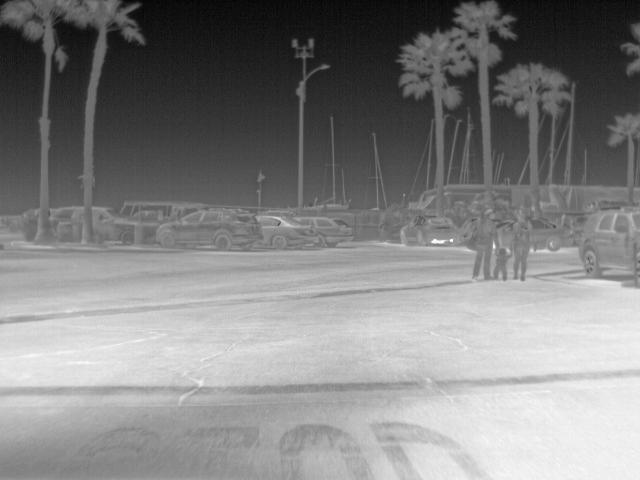car: (158, 207, 264, 252), (581, 206, 637, 282), (254, 214, 321, 249), (396, 213, 457, 247), (90, 205, 137, 246), (297, 215, 350, 249), (526, 216, 562, 246), (46, 207, 83, 222)
person: (474, 210, 503, 276), (509, 211, 532, 278), (493, 244, 512, 276)
